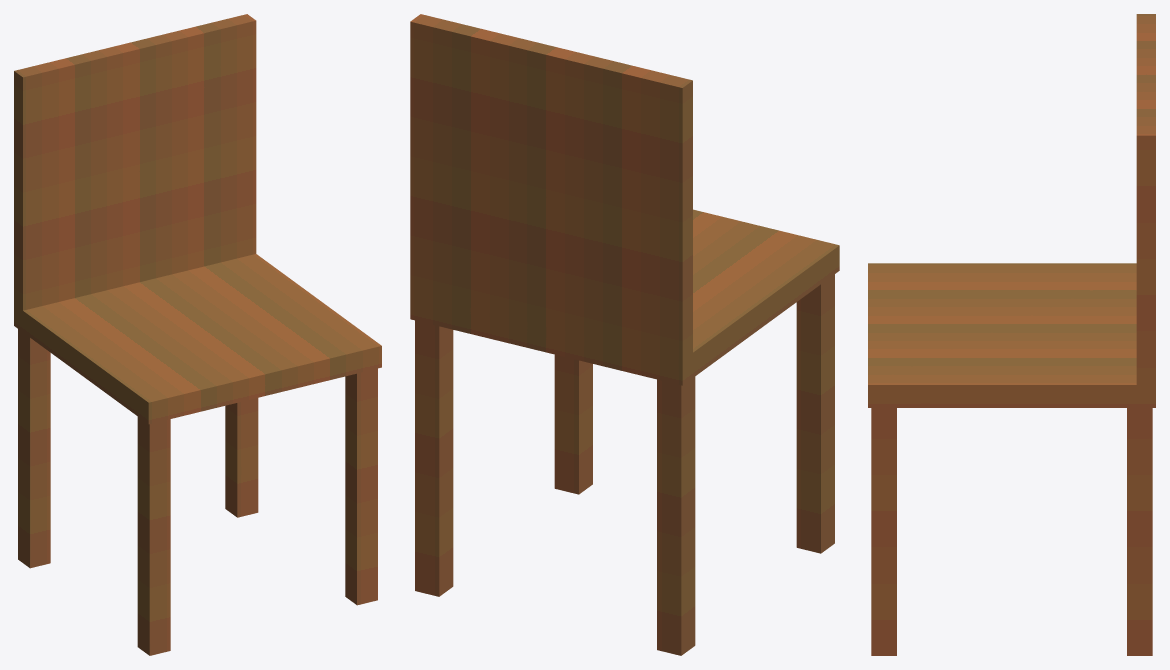
File: silla.obj
3 renders of one model, left to right at view 1: azimuth 30°, elevation 25°; view 2: azimuth 150°, elevation 25°; view 3: azimuth 270°, elevation 25°, orthographic. The views are drawn at different scales.
Size of the model in its own units: 0.45 by 0.9 by 0.45.
Materials: 1 (1 with a texture image).
